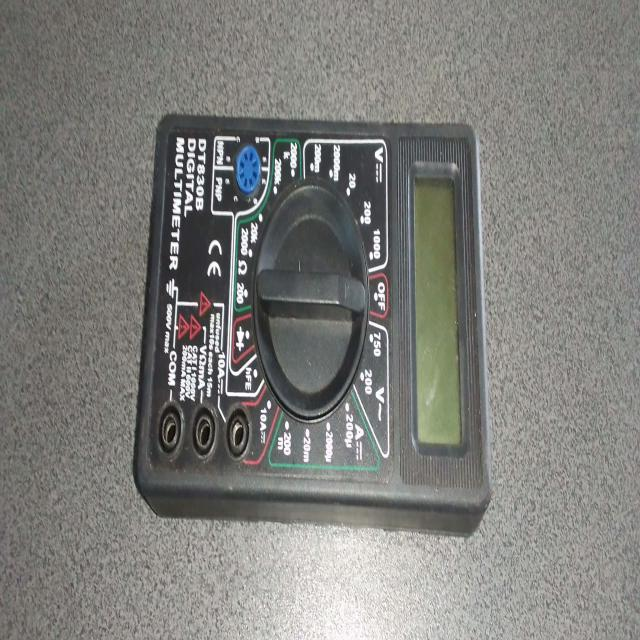Digital Multimeter: (131, 97, 500, 548)
